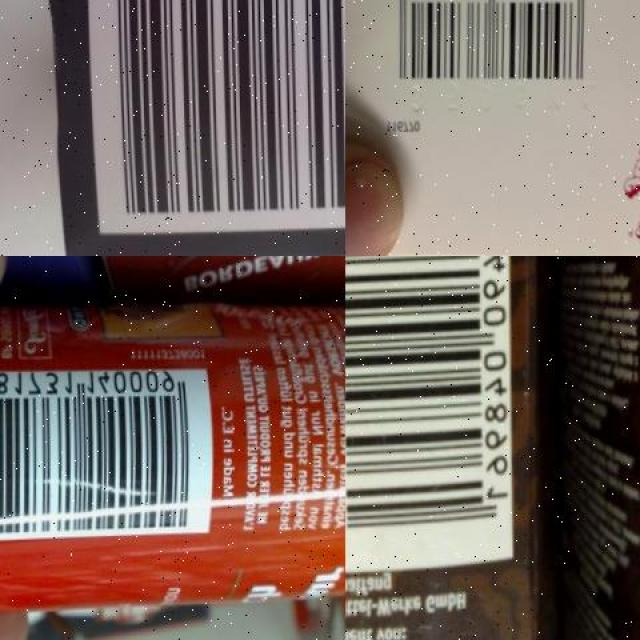Barcode: (77, 0, 346, 239), (345, 256, 512, 573), (0, 364, 208, 545), (369, 0, 600, 100)
